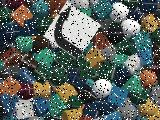Right: (43, 1, 101, 60)
